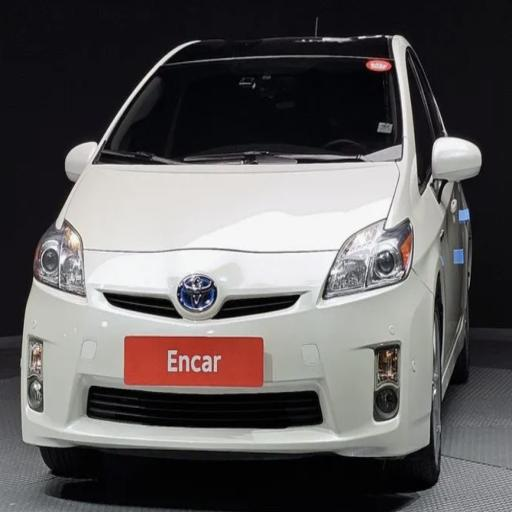normal: (23, 18, 473, 475)
